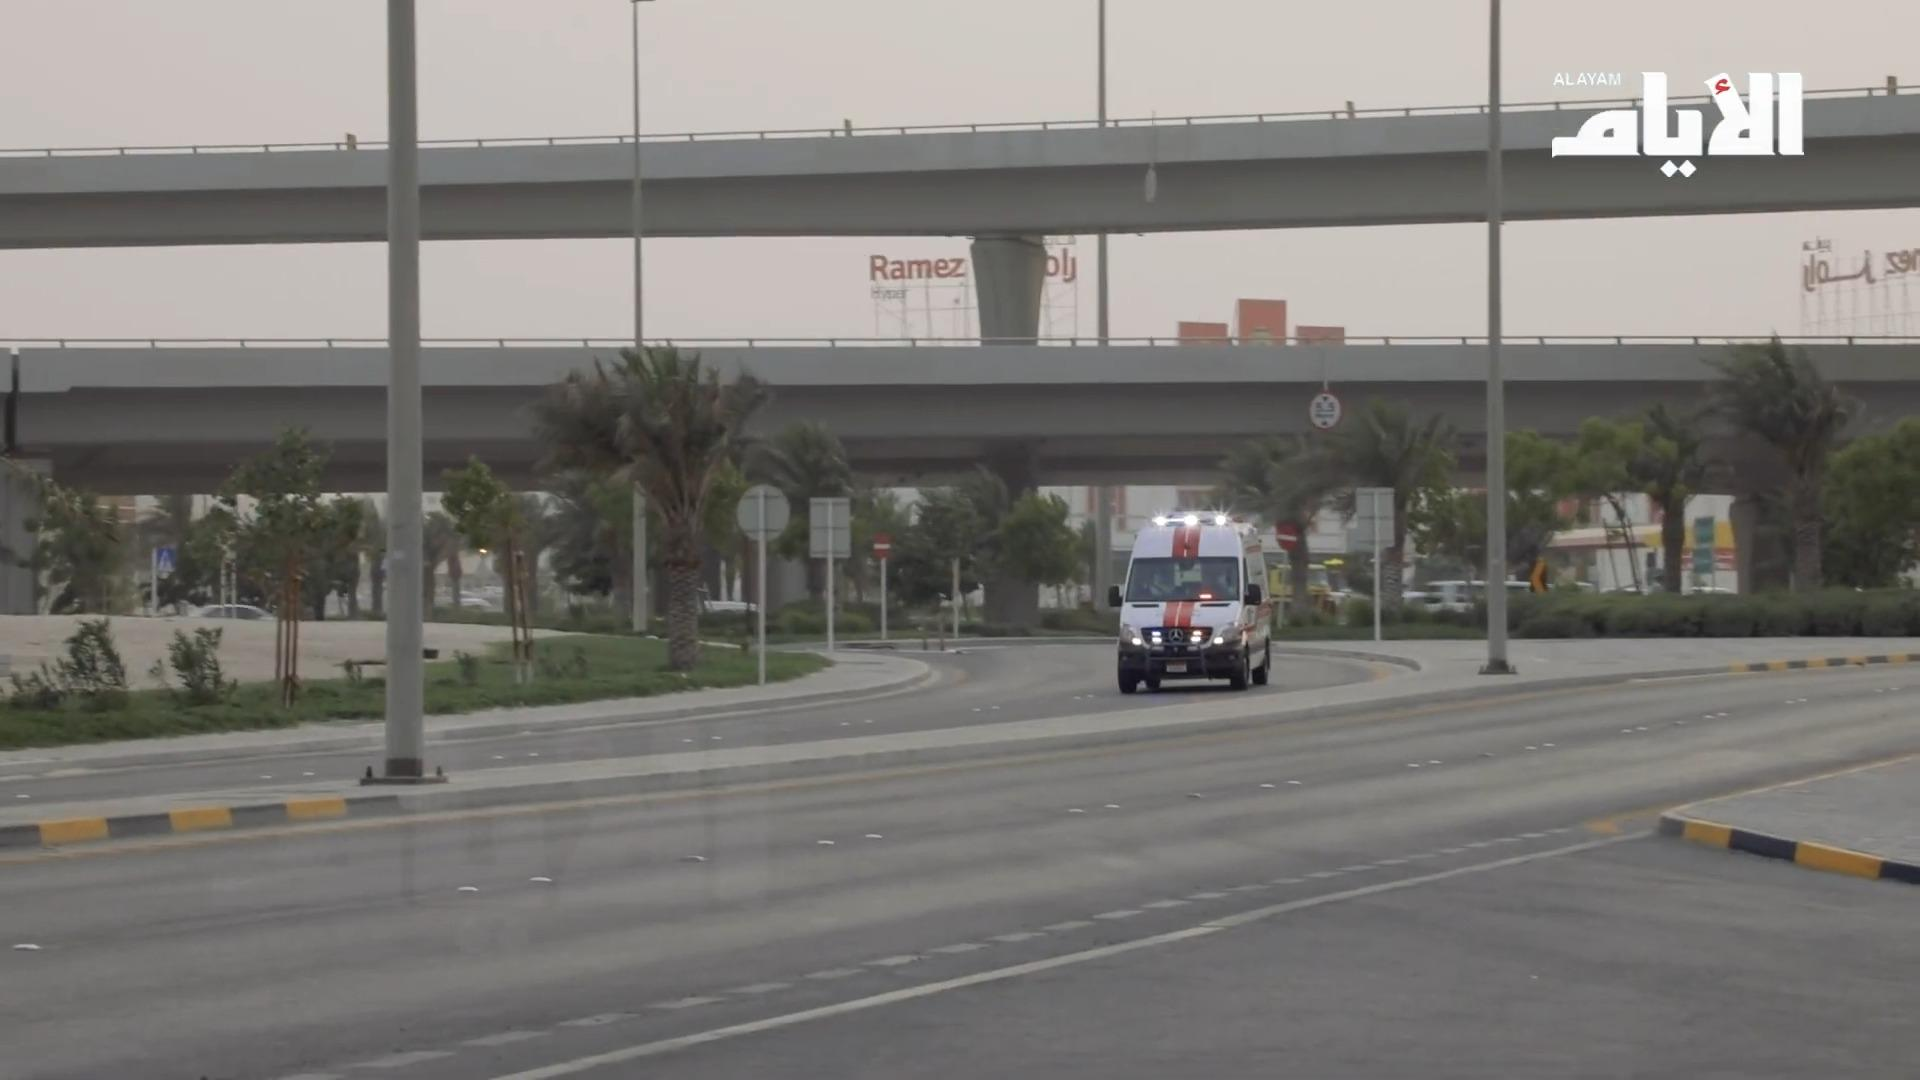ambulance_on: (1109, 509, 1273, 694)
